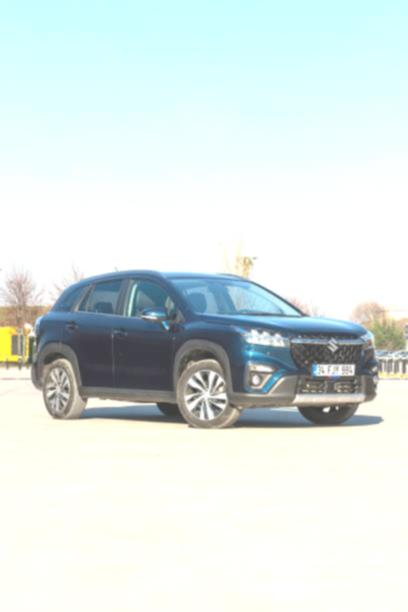suzuki: (323, 334, 346, 358)
